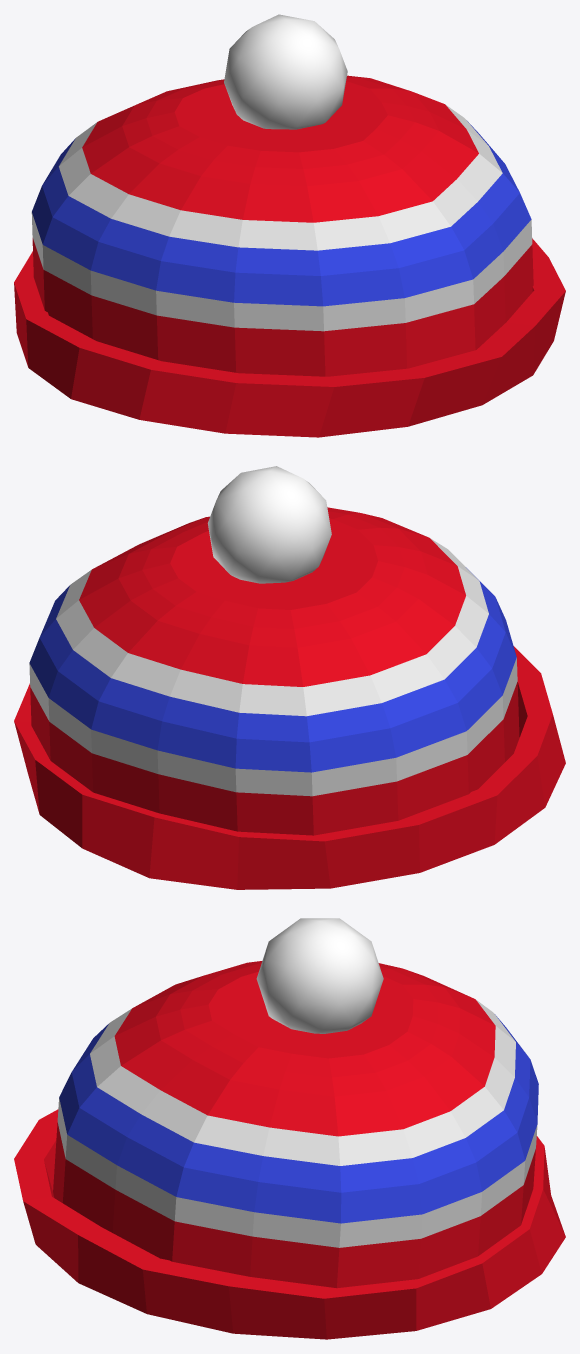
File: model_canadien.gltf
The picture shows the model from 3 angles, top to bottom: view 1: azimuth 30°, elevation 25°; view 2: azimuth 150°, elevation 25°; view 3: azimuth 270°, elevation 25°; orthographic projection.
Parts seen in each view (by area): view 1: model_canadien; view 2: model_canadien; view 3: model_canadien.
Boxes of the visible parts, x1=… form: model_canadien: x1=14, y1=14, x2=565, y2=437; model_canadien: x1=14, y1=466, x2=565, y2=889; model_canadien: x1=14, y1=918, x2=565, y2=1339.
Bounding box in the file's own units: 0.6506 × 0.4093 × 0.6458.
